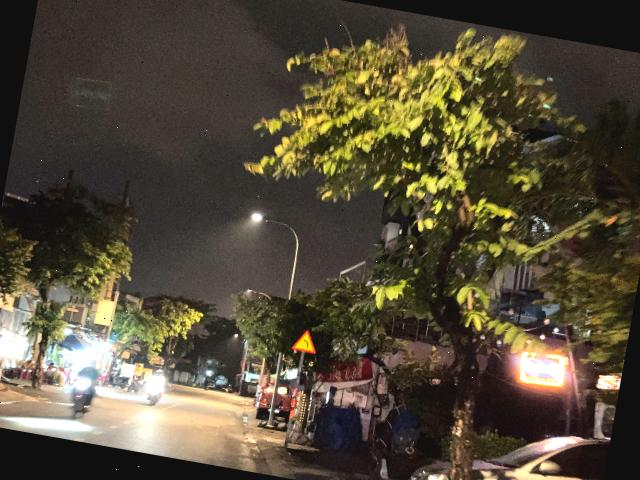cho-ngoat-nguy-hiem-ben-trai: (291, 328, 319, 354)
